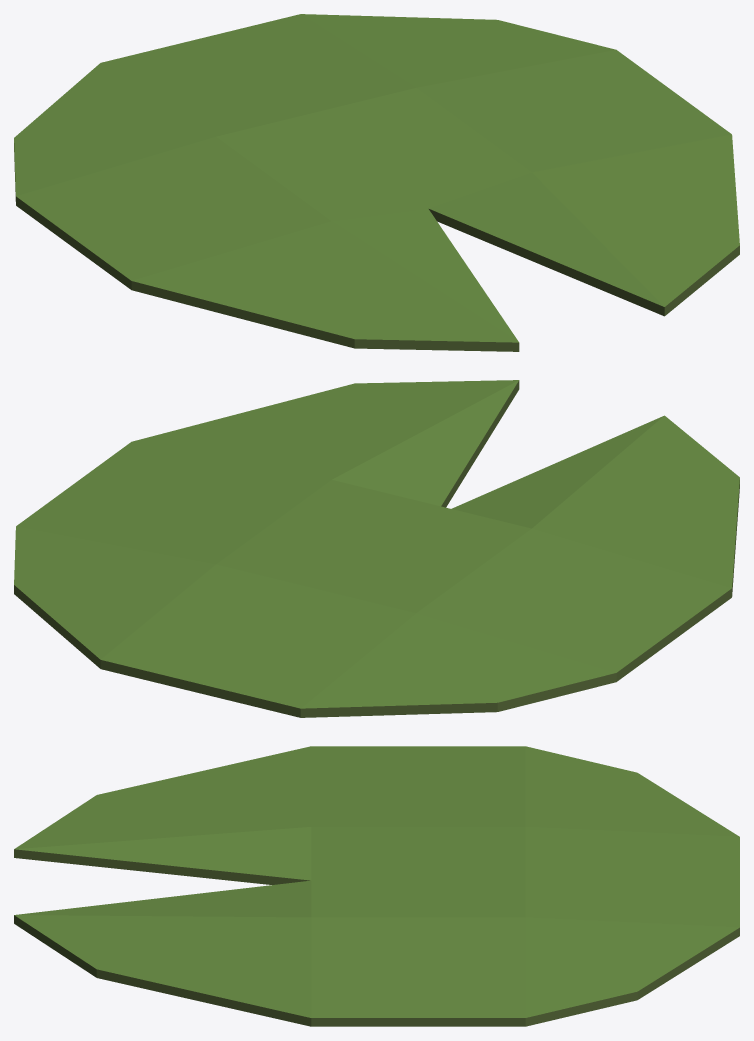
The model's file is LilyPad_01.glb.
3 renders of one model, top to bottom at view 1: azimuth 30°, elevation 25°; view 2: azimuth 150°, elevation 25°; view 3: azimuth 270°, elevation 25°, orthographic. The views are drawn at different scales.
Visible parts, largest first — view 1: LilyPad_01; view 2: LilyPad_01; view 3: LilyPad_01.
Boxes of the visible parts, x1,y1,x2,y2 form: LilyPad_01: (14, 14, 739, 351); LilyPad_01: (14, 380, 739, 717); LilyPad_01: (14, 746, 739, 1026).
Size of what is drawn, in the model's own units: 0.6417 by 0.0206 by 0.7243.
1 material, 1 textured.
